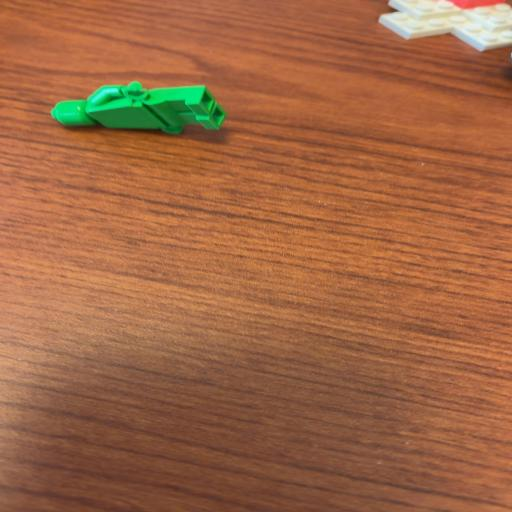UnoQ-minifig-detector: (51, 82, 226, 133)
